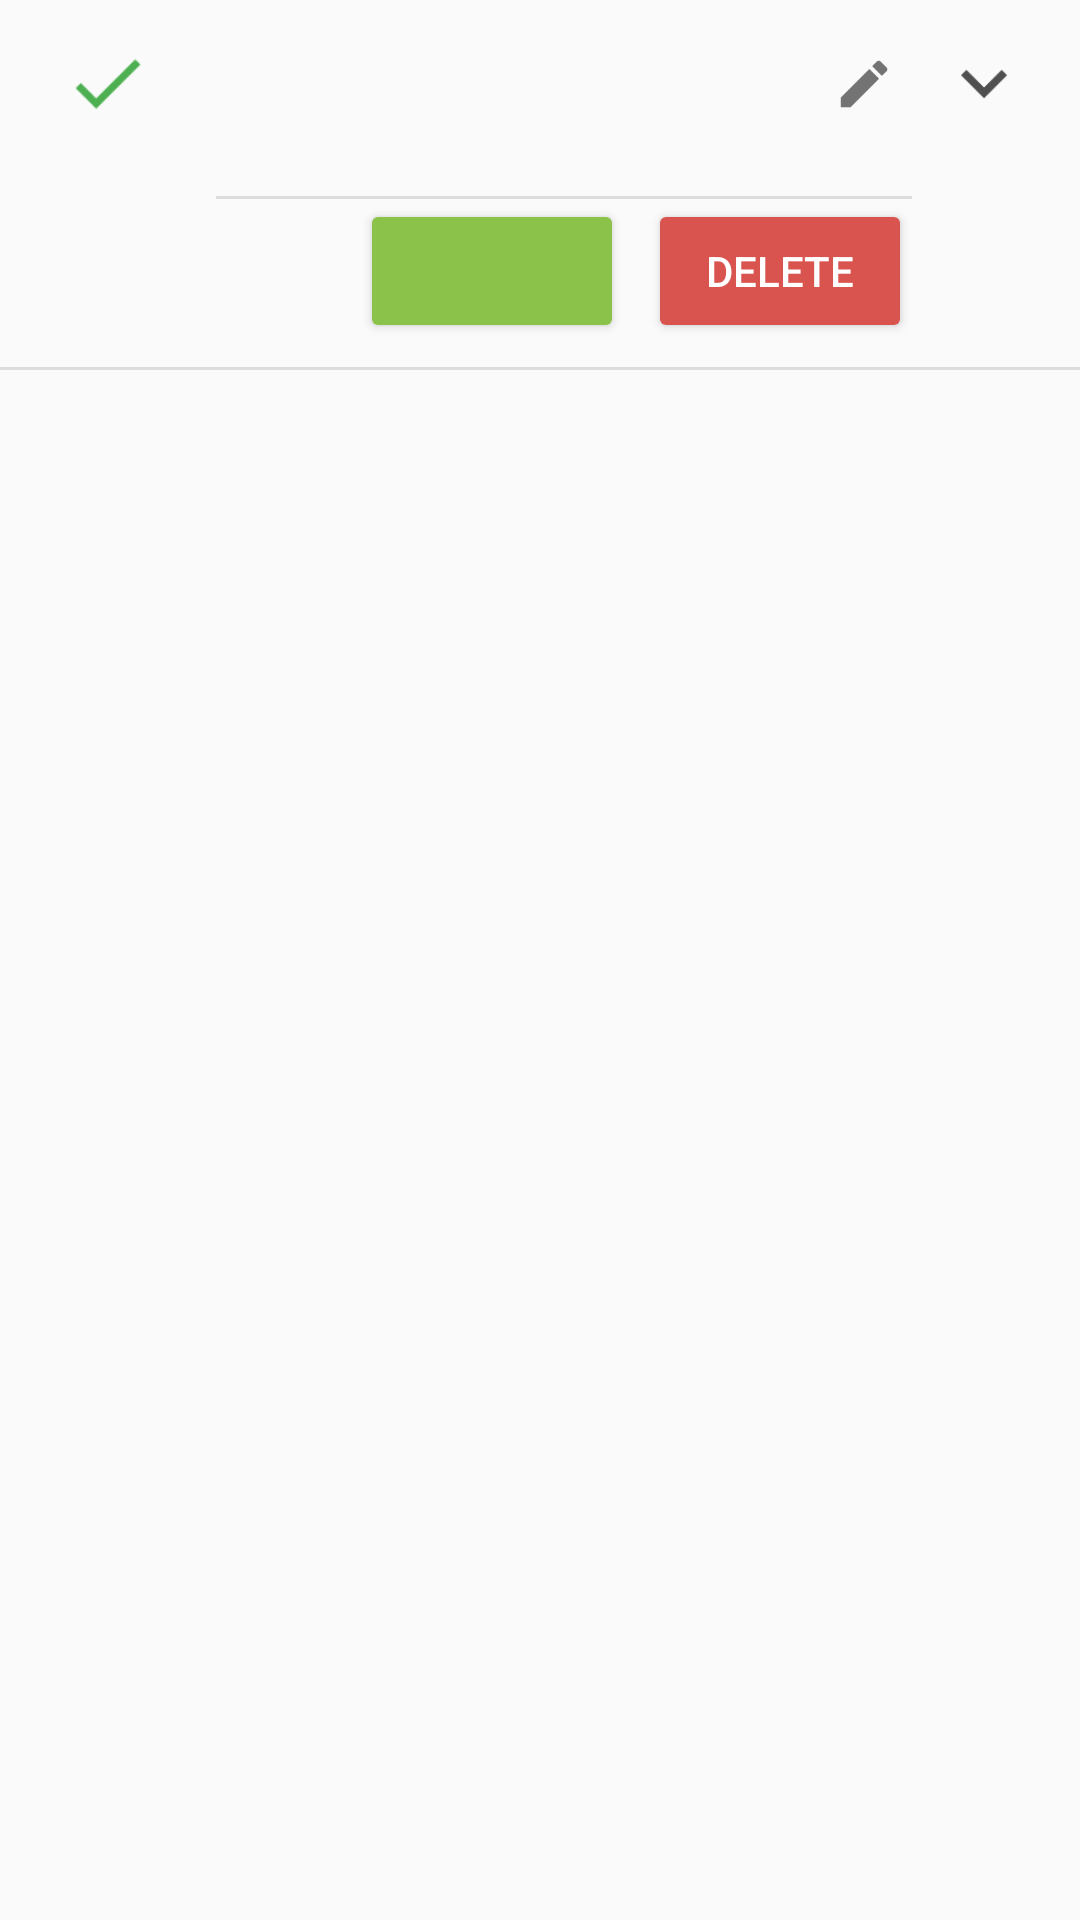

Icon click points for this 1080*1920 phone screenshot, format (x=x, y=y):
arrow down: (x=984, y=84)
check: (x=108, y=84)
edit: (x=864, y=84)
